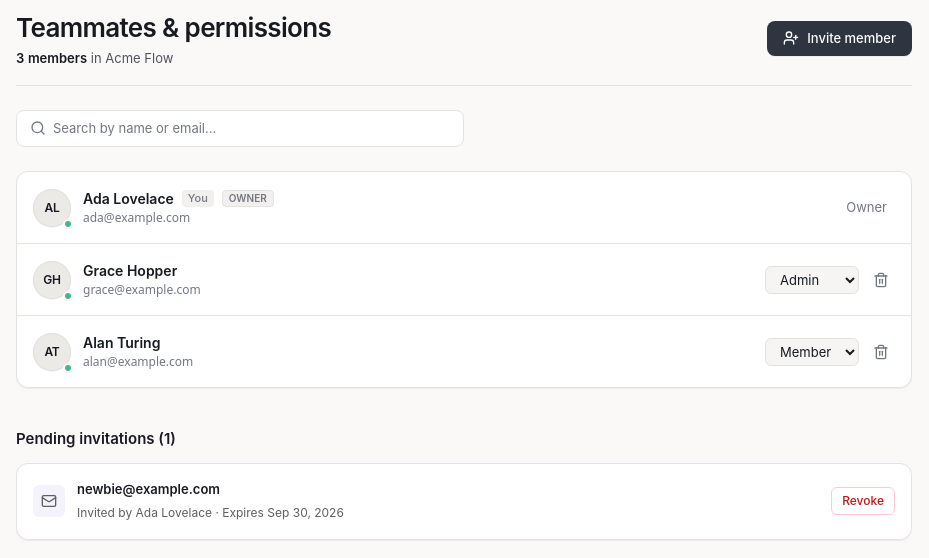
Test case: SettingsMembersView › filters members by name or email
Type "grace" into the search field with placeholder "Search by name or email..." at (240, 128), box [16, 110, 464, 147]
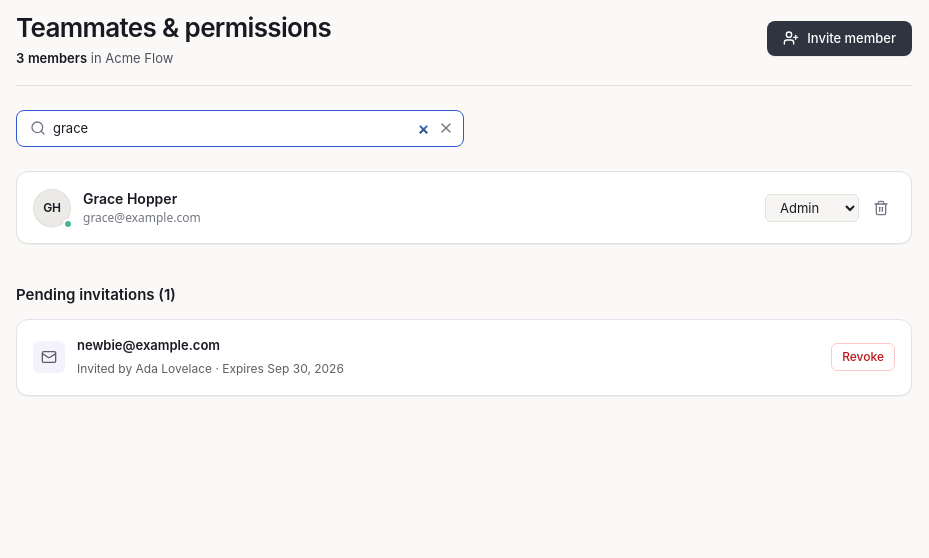
Expected: the text "Grace Hopper" is shown, [83, 188, 177, 209]
Expected: the text "Alan Turing" is gone
